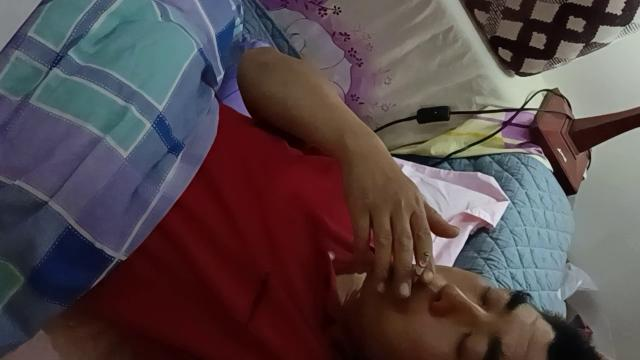Cigarette: (410, 251, 430, 285)
